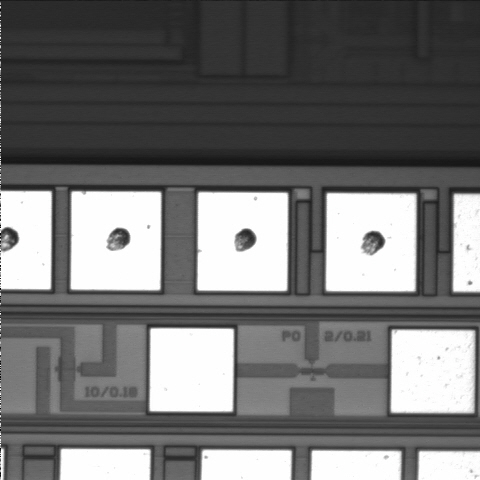pad: (197, 192, 288, 291), (71, 192, 161, 290), (326, 193, 416, 291), (150, 328, 234, 412), (391, 330, 474, 413)
